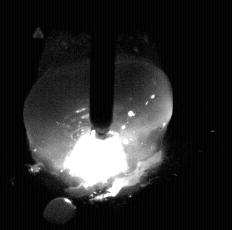arame: (89, 0, 115, 139)
poca: (23, 0, 173, 230)
